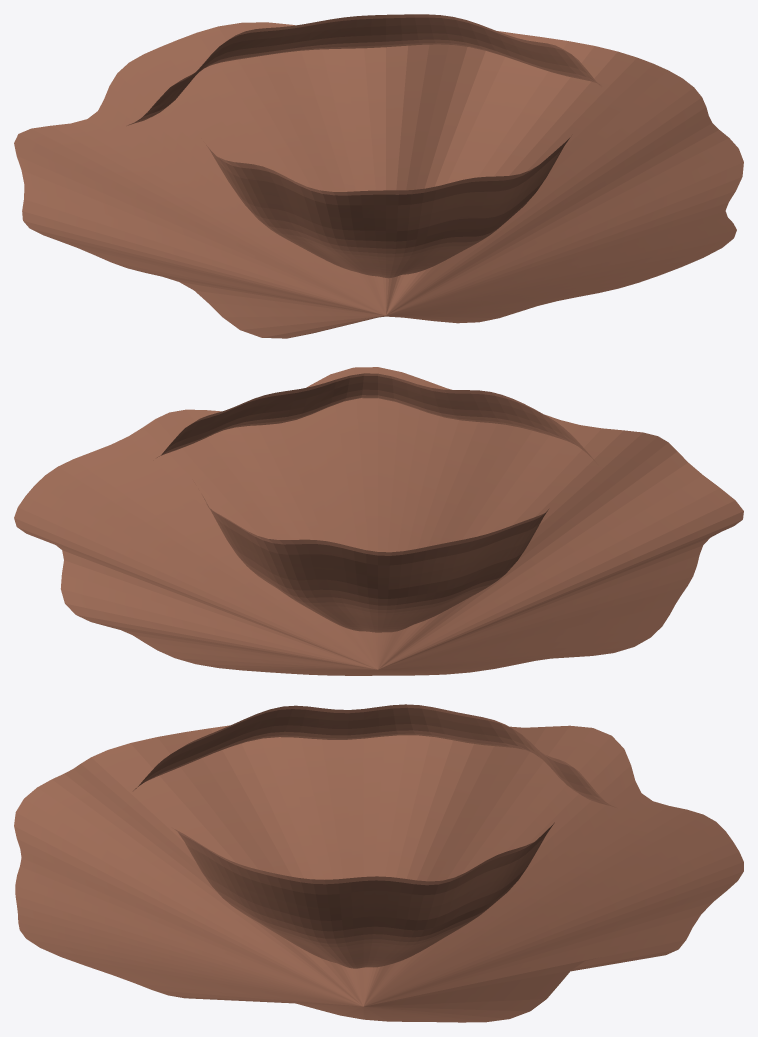
Rendered from Mars_Impact_Crater_Collider.glb.
3 renders of one model, top to bottom at view 1: azimuth 30°, elevation 25°; view 2: azimuth 150°, elevation 25°; view 3: azimuth 270°, elevation 25°, orthographic. The views are drawn at different scales.
Visible parts, largest first — view 1: world; view 2: world; view 3: world.
Part boxes in pixels (x1,y1,x2,y2): world: (14,14,743,338); world: (14,367,743,675); world: (14,704,743,1022).
Size of the model in its own units: 16.41 by 5.31 by 16.13.
